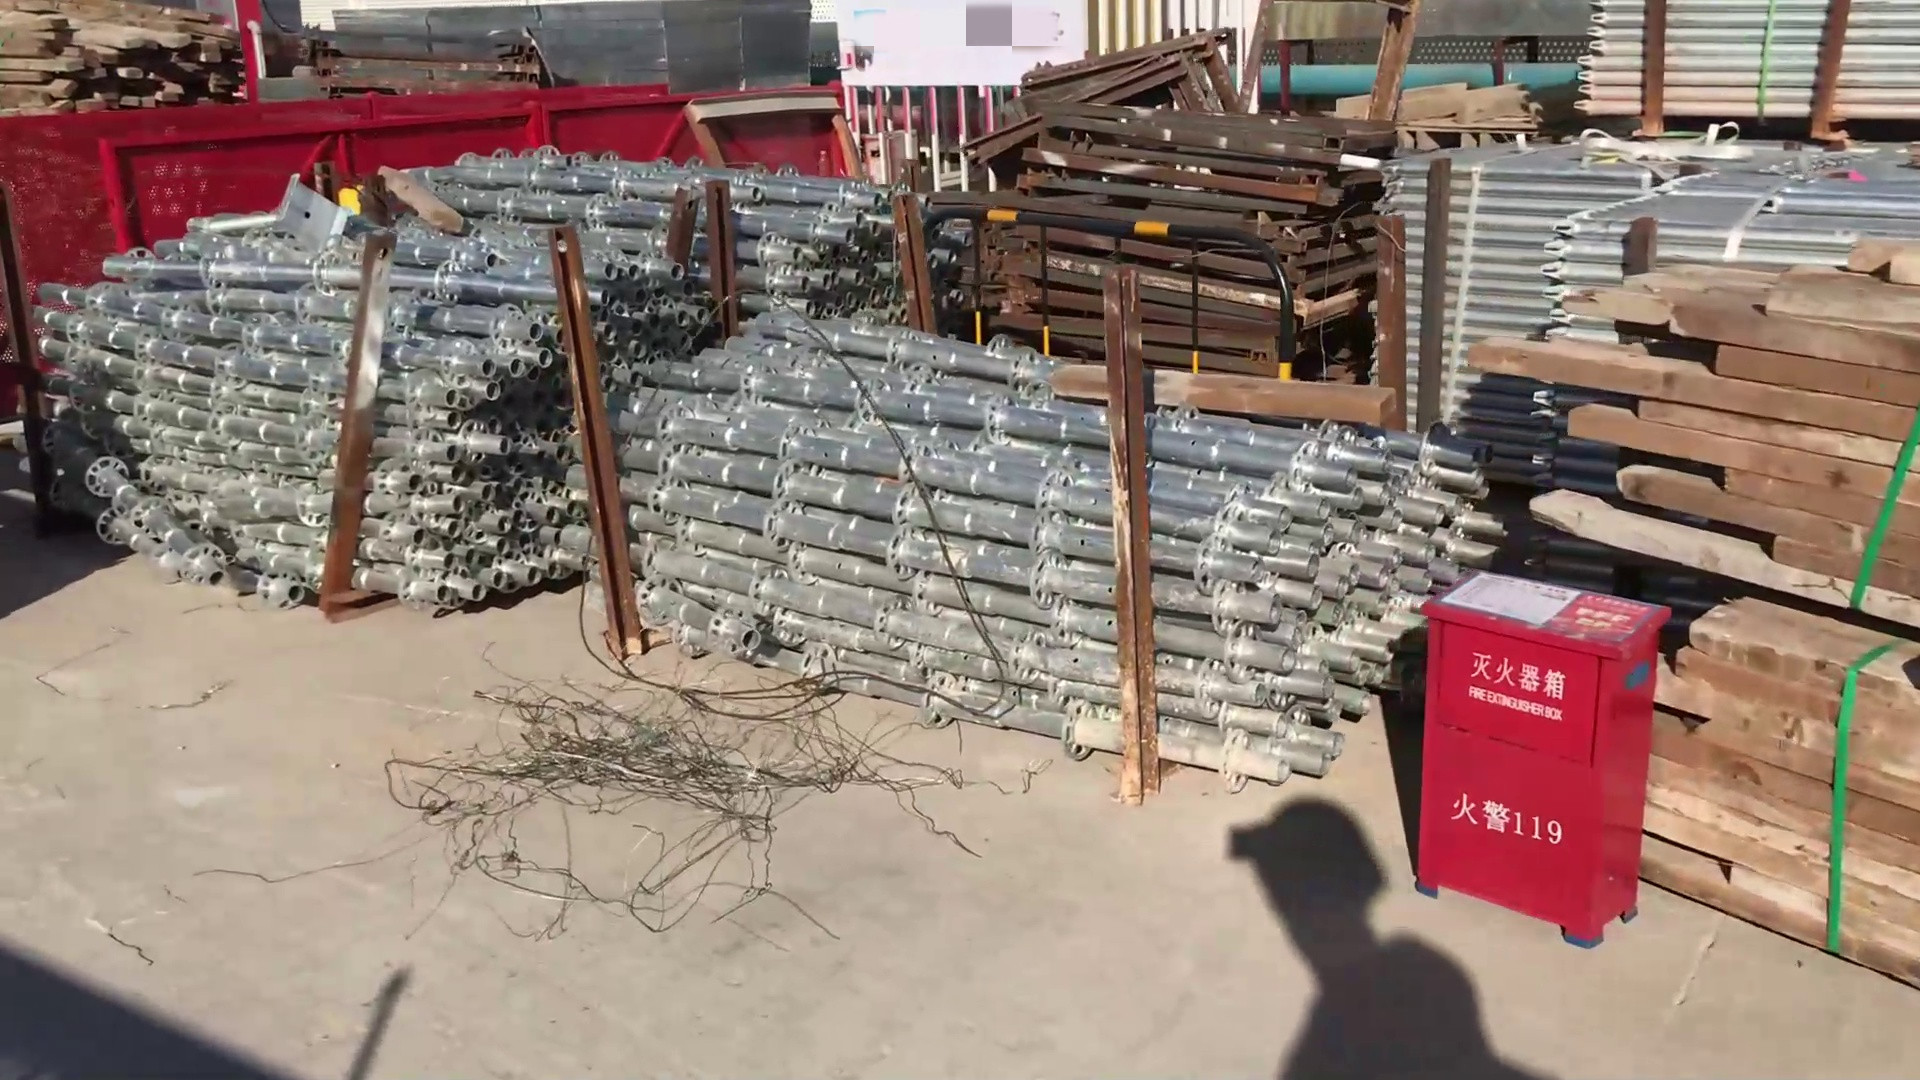fence: (936, 214, 1290, 378)
scaffold: (29, 141, 752, 630), (694, 323, 1435, 785), (1019, 58, 1396, 360), (1569, 1, 1915, 138)
wood: (1611, 239, 1920, 1026), (7, 1, 231, 100)
